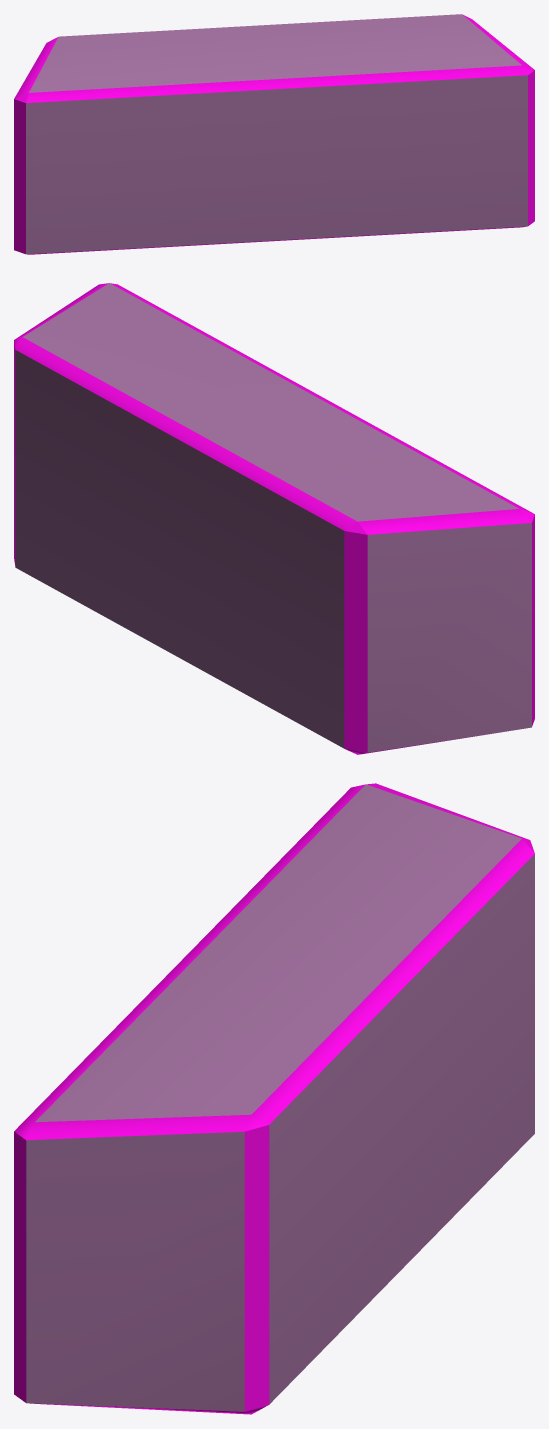
File: PinkL2.fbx
3 views of the same model, one above another, from view 1: azimuth 30°, elevation 25°; view 2: azimuth 150°, elevation 25°; view 3: azimuth 270°, elevation 25° (orthographic). The views are drawn at different scales.
Parts seen in each view (by area): view 1: polySurface46; view 2: polySurface46; view 3: polySurface46.
Boxes of the visible parts, x1,y1,x2,y2 form: polySurface46: (14,14,534,254); polySurface46: (14,283,534,754); polySurface46: (14,783,534,1414).
Bounding box in the file's own units: 2.04 × 0.8012 × 1.26.
